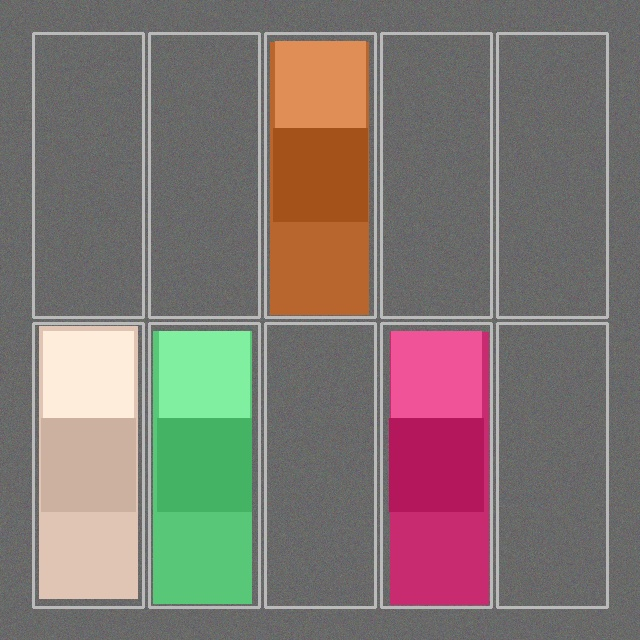space-empty: (35, 35, 141, 315), (151, 35, 257, 315), (383, 35, 489, 315), (499, 35, 605, 315), (267, 325, 373, 605), (499, 325, 605, 605)
space-occupied: (267, 35, 373, 315), (35, 325, 141, 605), (151, 325, 257, 605), (383, 325, 489, 605)
